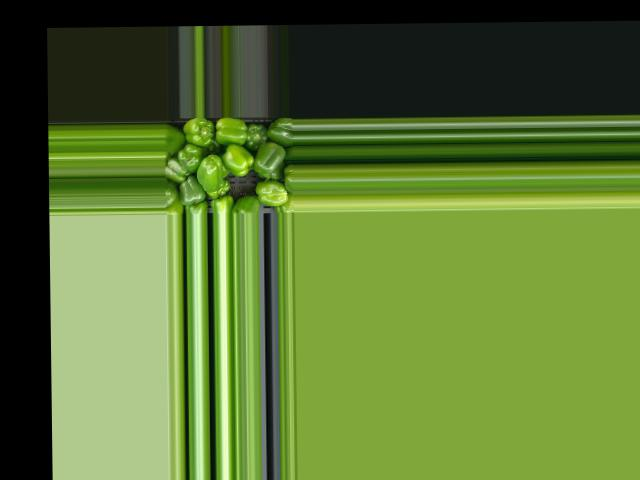bell_pepper: (163, 131, 184, 158)
